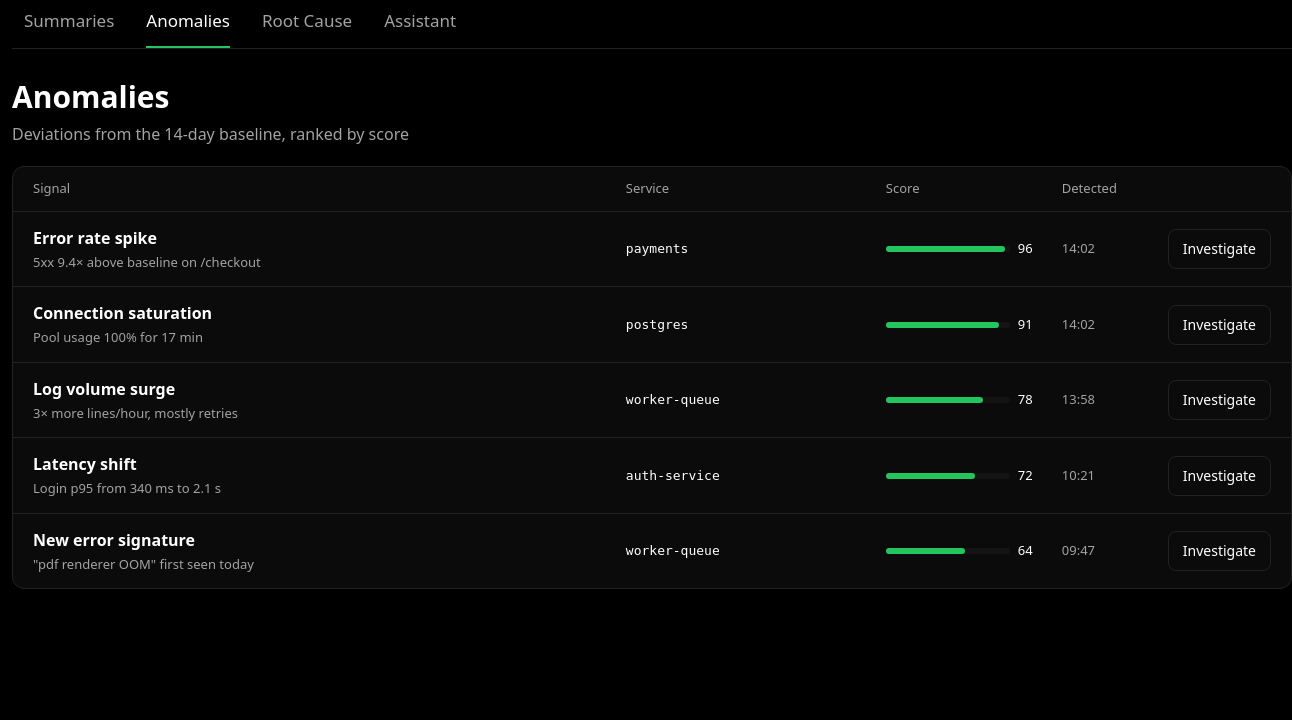
Scenario: AnomaliesPage › opens Root Cause on the incident of the investigated anomaly
The image size is (1292, 720).
What coordinates should you click on to do the following:
click the link with aria-label "Investigate Latency shift"
I would click on:
 (1219, 476)
Its box is x1=1168 y1=456 x2=1271 y2=496.
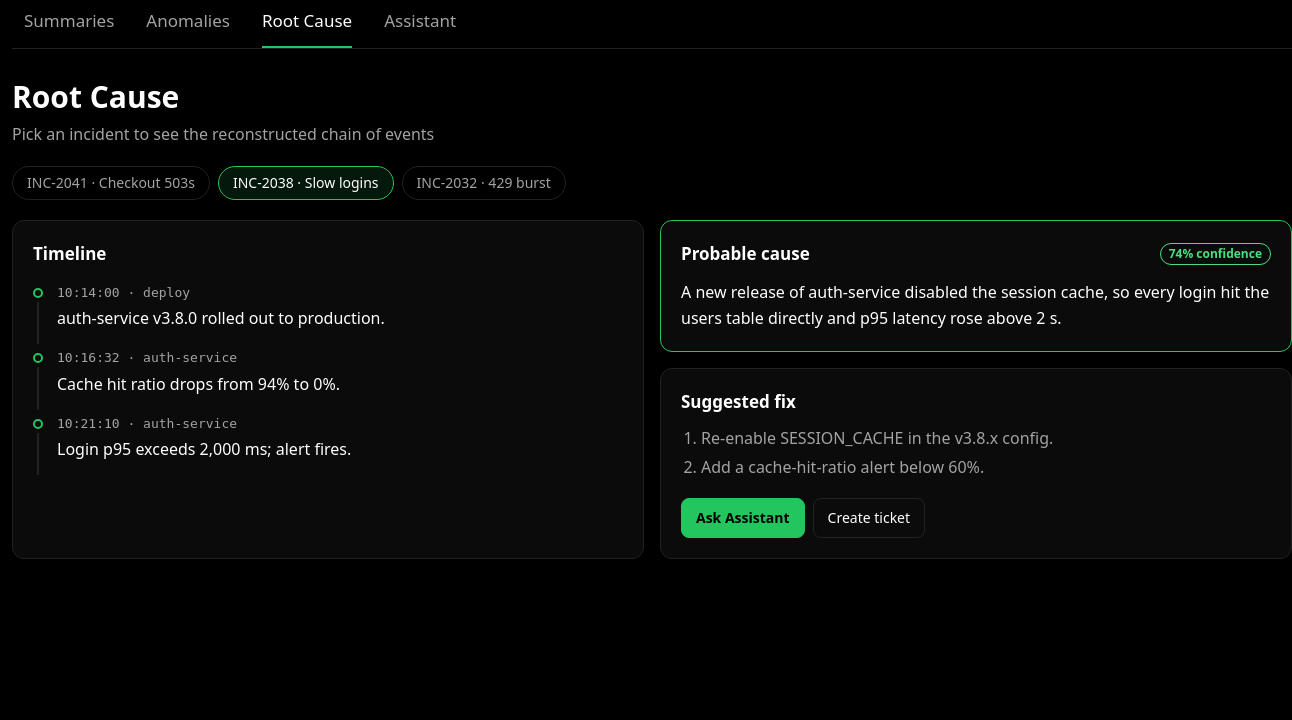
Expected: the heading "Root Cause" is shown, x1=12 y1=76 x2=179 y2=116
